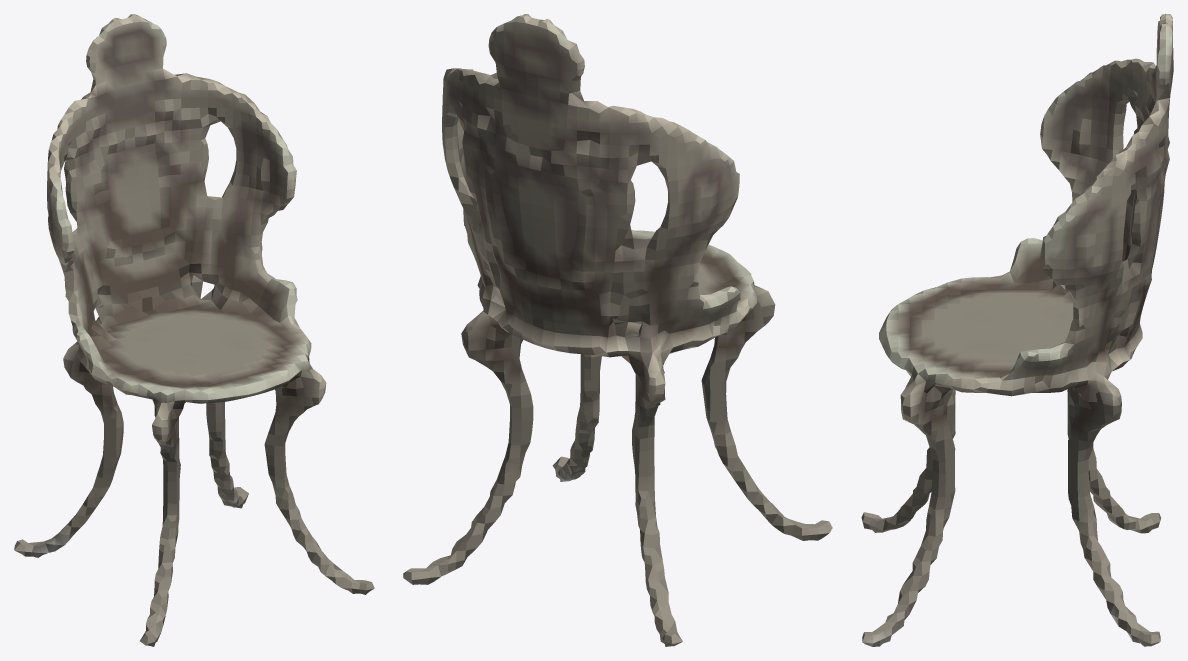
The model's file is PC_Garden_chair.fbx.
3 views of the same model, side by side, from view 1: azimuth 30°, elevation 25°; view 2: azimuth 150°, elevation 25°; view 3: azimuth 270°, elevation 25° (orthographic). The views are drawn at different scales.
Parts seen in each view (by area): view 1: Chair.001; view 2: Chair.001; view 3: Chair.001.
Boxes of the visible parts, x1,y1,x2,y2 form: Chair.001: (14, 14, 374, 646); Chair.001: (403, 14, 832, 646); Chair.001: (861, 14, 1173, 646).
Size of the model in its own units: 83.8 by 172 by 85.63.
